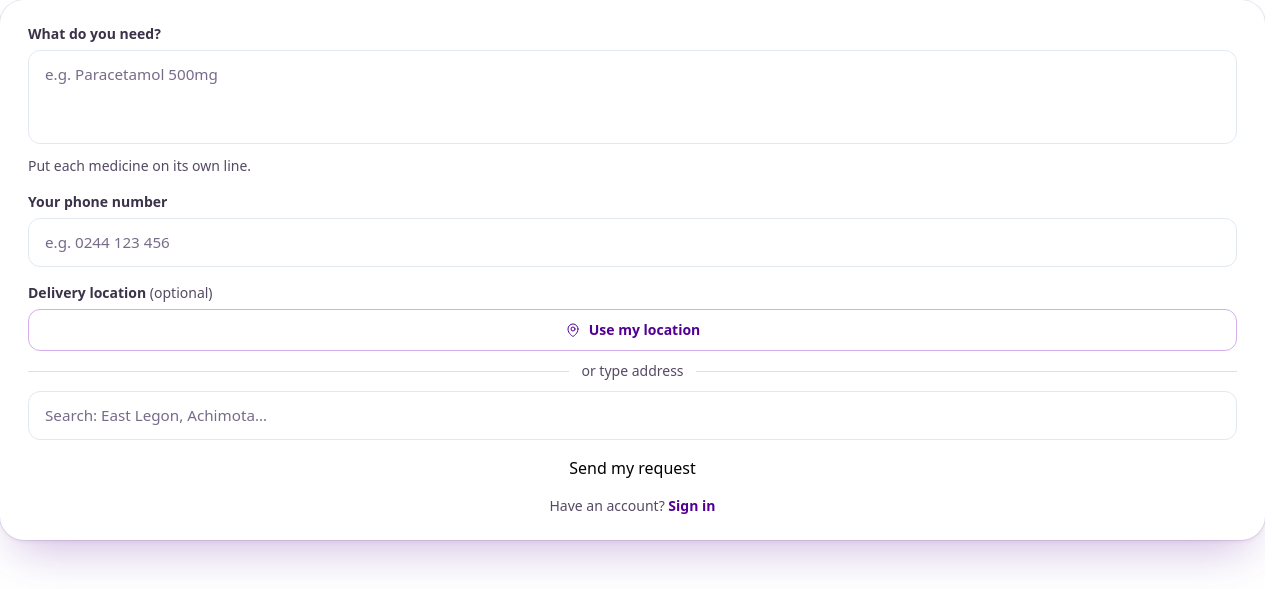
Test: HomeQuickRequest › confirms the request and offers sign in or sign up
The width and height of the screenshot is (1280, 589).
In the text box with id "hero-medications": (632, 97) [28,50,1237,144], type "Ibuprofen"
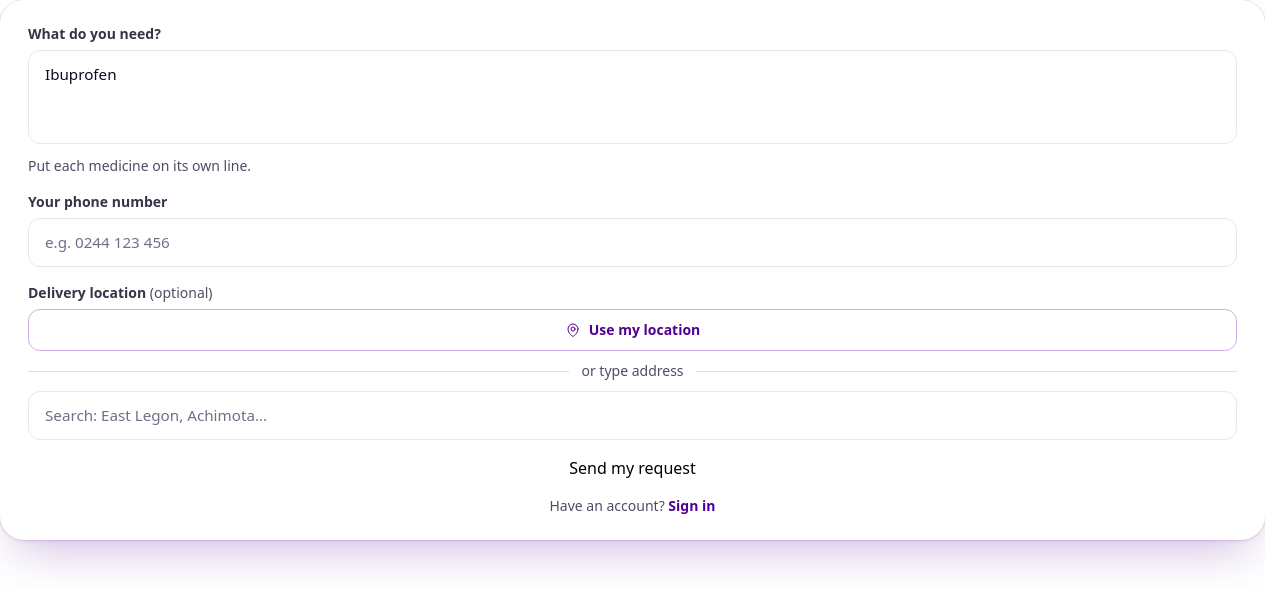
In the field with id "hero-phone": (632, 243) [28,218,1237,267], type "0244123456"
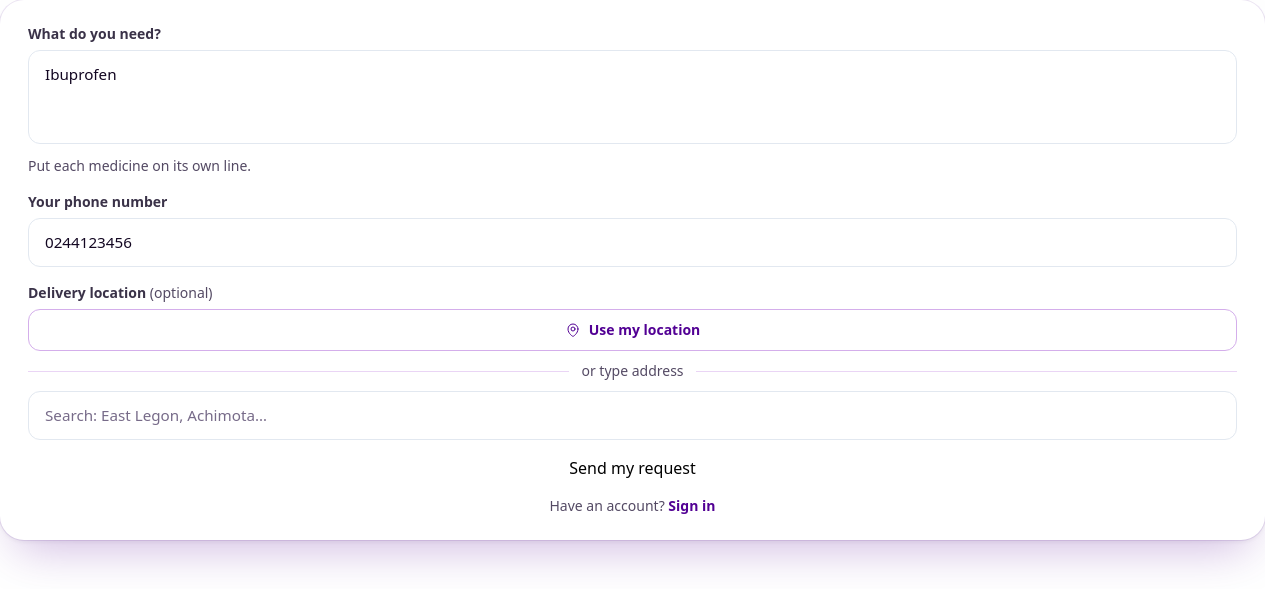
Submit the form
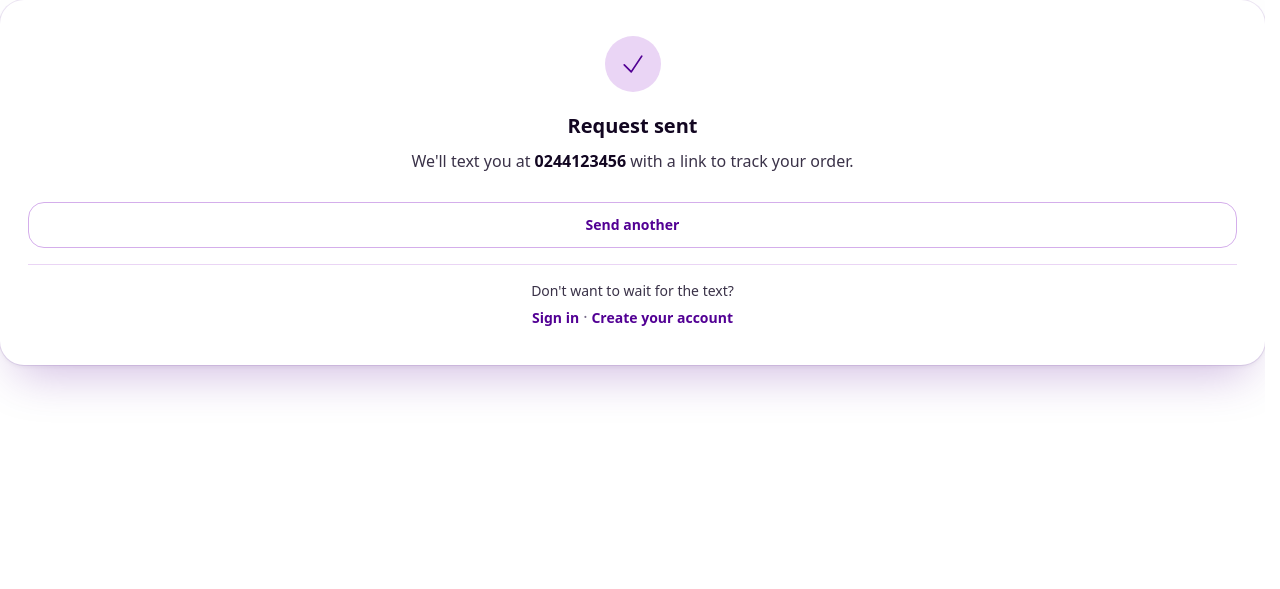
Check: the text "Request sent" is shown, box [568,112,698,139]
Check: the text "0244123456" is shown, box [535,150,626,172]
Check: the text "with a link to track your order." is shown, box [626,150,854,172]
